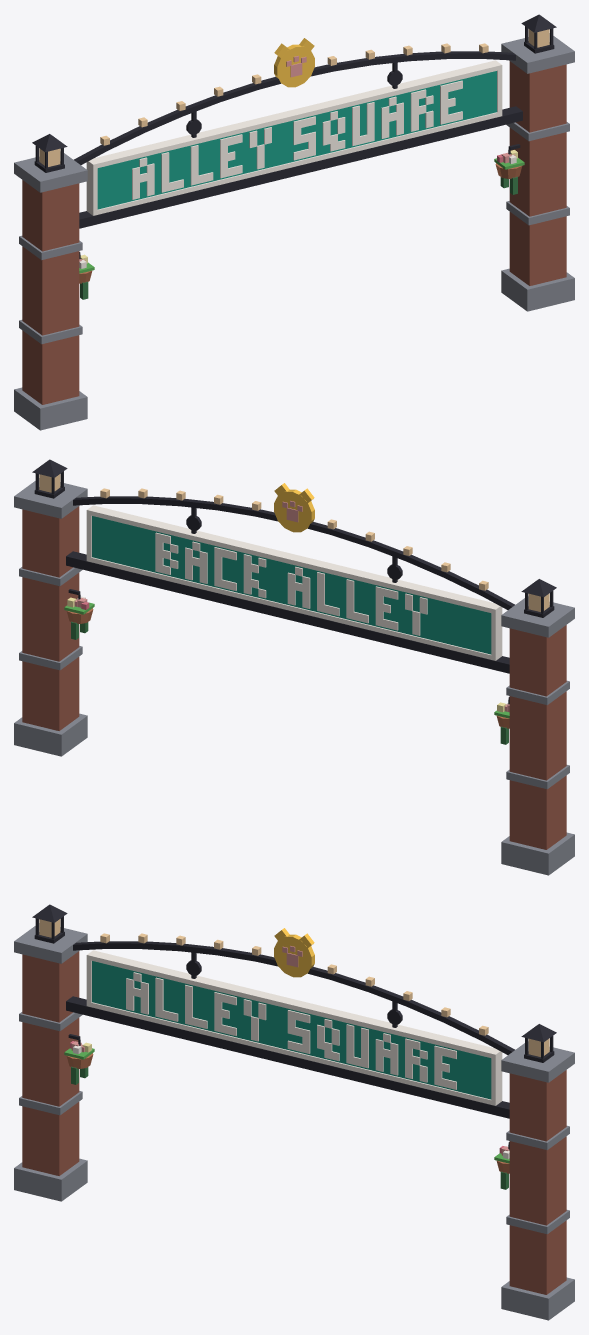
The model's file is CatCafe_Alley_Arch.glb.
3 views of the same model, one above another, from view 1: azimuth 30°, elevation 25°; view 2: azimuth 150°, elevation 25°; view 3: azimuth 330°, elevation 25° (orthographic).
Parts seen in each view (by area): view 1: CatCafe_Alley_Arch, CatCafe_Alley_Arch_Bulbs, CatCafe_Alley_Arch_Lamp_Bulb, CatCafe_Alley_Arch_Flowers; view 2: CatCafe_Alley_Arch, CatCafe_Alley_Arch_Bulbs, CatCafe_Alley_Arch_Lamp_Bulb, CatCafe_Alley_Arch_Flowers; view 3: CatCafe_Alley_Arch, CatCafe_Alley_Arch_Bulbs, CatCafe_Alley_Arch_Lamp_Bulb, CatCafe_Alley_Arch_Flowers.
Part boxes in pixels (bbox=[...]): CatCafe_Alley_Arch: bbox=[14, 14, 574, 430]; CatCafe_Alley_Arch_Bulbs: bbox=[100, 43, 488, 145]; CatCafe_Alley_Arch_Lamp_Bulb: bbox=[39, 29, 549, 166]; CatCafe_Alley_Arch_Flowers: bbox=[79, 150, 524, 273]; CatCafe_Alley_Arch: bbox=[14, 459, 574, 875]; CatCafe_Alley_Arch_Bulbs: bbox=[100, 488, 488, 590]; CatCafe_Alley_Arch_Lamp_Bulb: bbox=[39, 474, 549, 611]; CatCafe_Alley_Arch_Flowers: bbox=[64, 596, 509, 718]; CatCafe_Alley_Arch: bbox=[14, 904, 574, 1320]; CatCafe_Alley_Arch_Bulbs: bbox=[100, 933, 488, 1035]; CatCafe_Alley_Arch_Lamp_Bulb: bbox=[39, 919, 549, 1056]; CatCafe_Alley_Arch_Flowers: bbox=[64, 1041, 509, 1163].
Size of the model in its own units: 30.6 by 17.17 by 2.6.
1 material, 1 textured.
